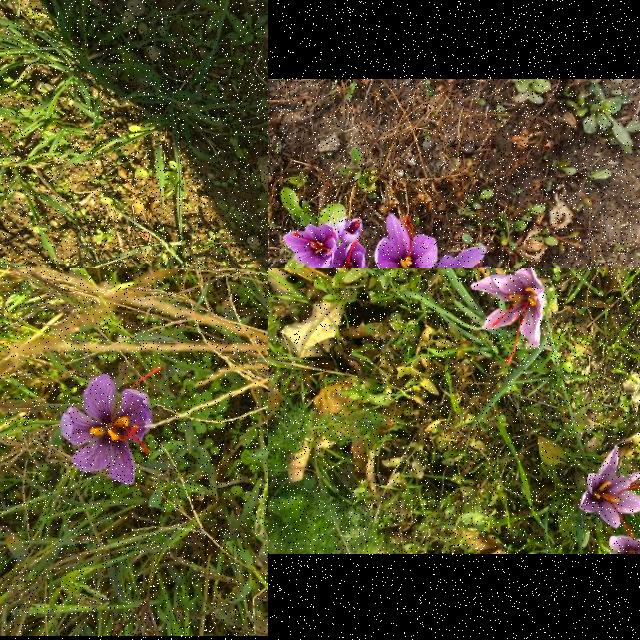flower: (60, 368, 162, 487), (470, 268, 544, 364), (578, 445, 640, 534), (375, 212, 439, 268), (282, 221, 338, 268), (317, 239, 369, 268), (430, 246, 496, 268), (336, 216, 364, 244), (608, 537, 640, 555)
